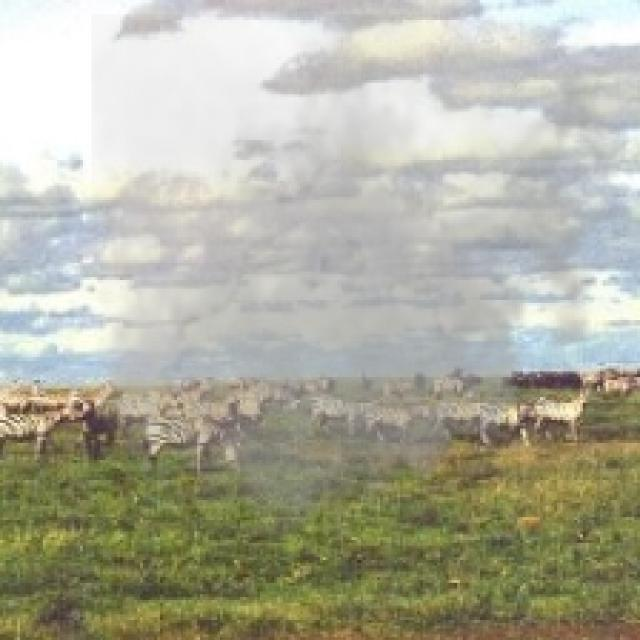Smoke: (91, 14, 628, 557)
